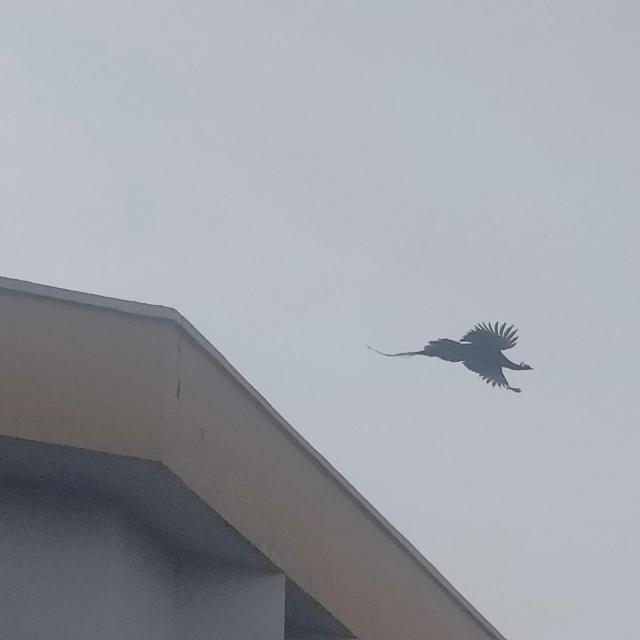Birds: (368, 292, 561, 424)
